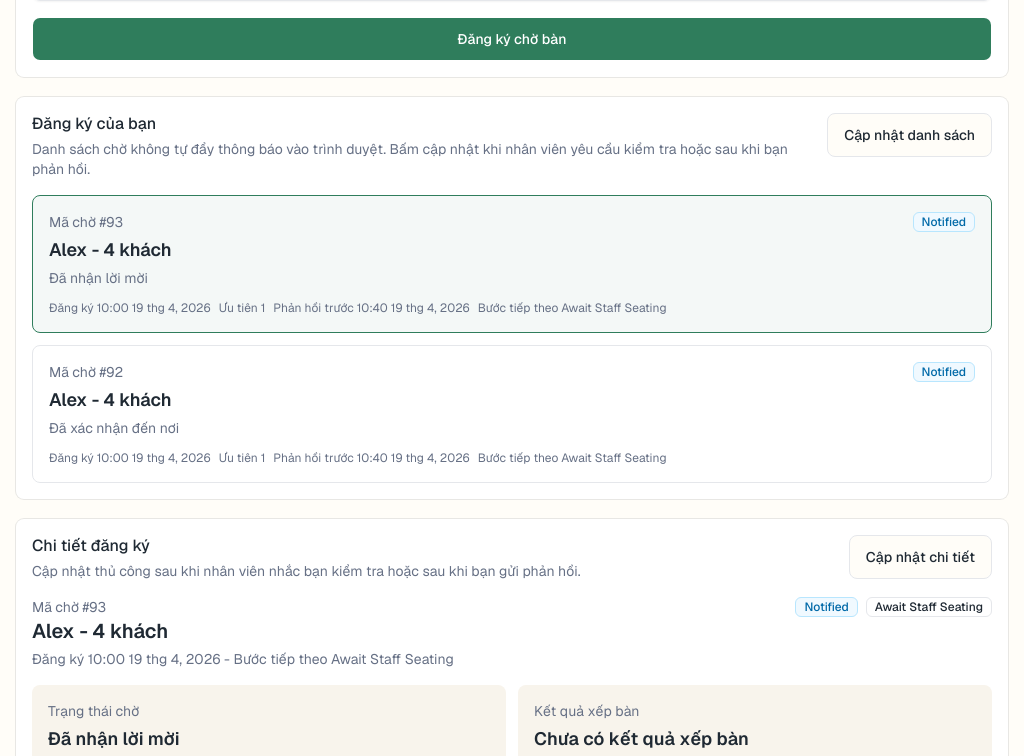
Test case: WaitingListPage › uses response_state to distinguish accepted from arrival-confirmed entries
(page scrolled)
Expected: the text "Đã nhận lời mời" below "Đăng ký của bạn" is shown, [49,269,148,287]
Click the text "Mã chờ #92".
click(86, 372)  # box [49,363,123,381]
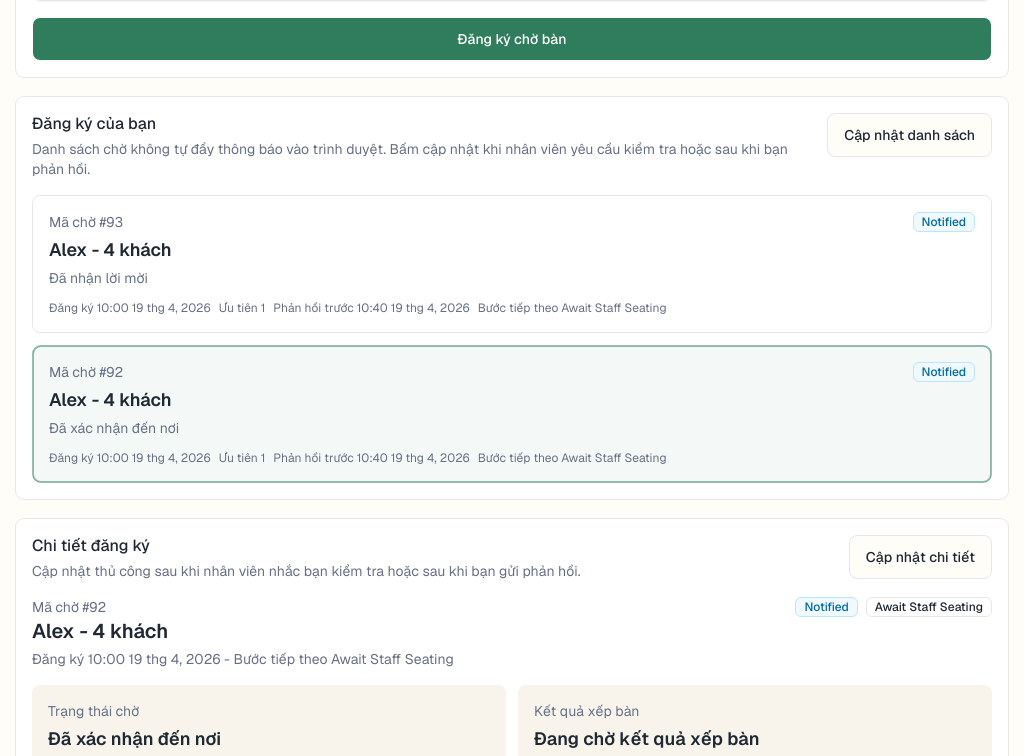
Expected: the text "Đã xác nhận đến nơi" below "Đăng ký của bạn" is shown, [49,419,179,437]
Expected: the text "Đang chờ kết quả xếp bàn" is shown, [534,727,760,750]
